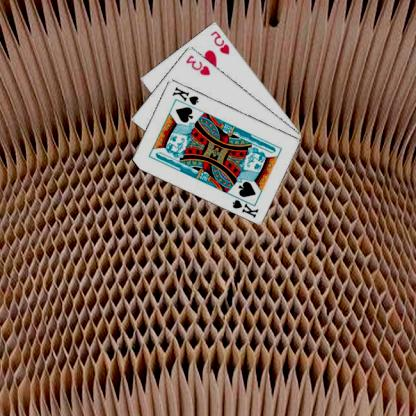3H: (185, 52, 214, 77)
5H: (209, 28, 233, 56)
KS: (231, 192, 262, 219), (172, 84, 202, 106)
